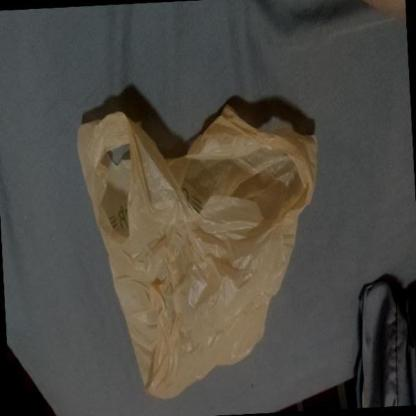Plastic Bag: (76, 102, 315, 402)
